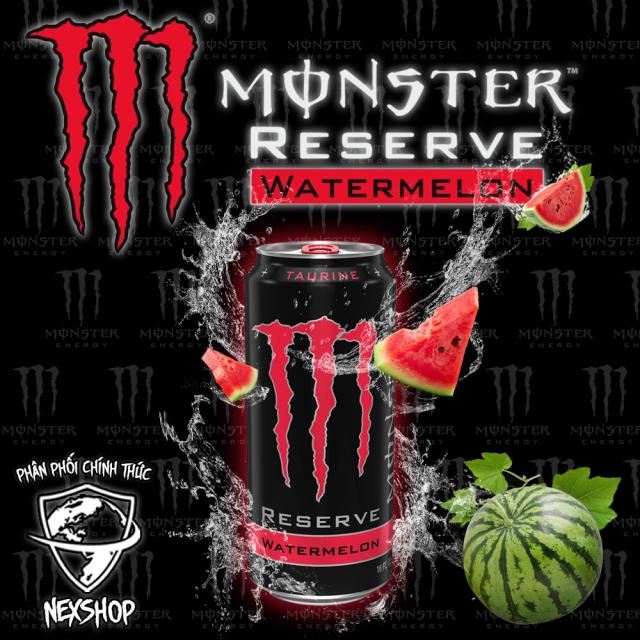Cans: (230, 216, 420, 622)
